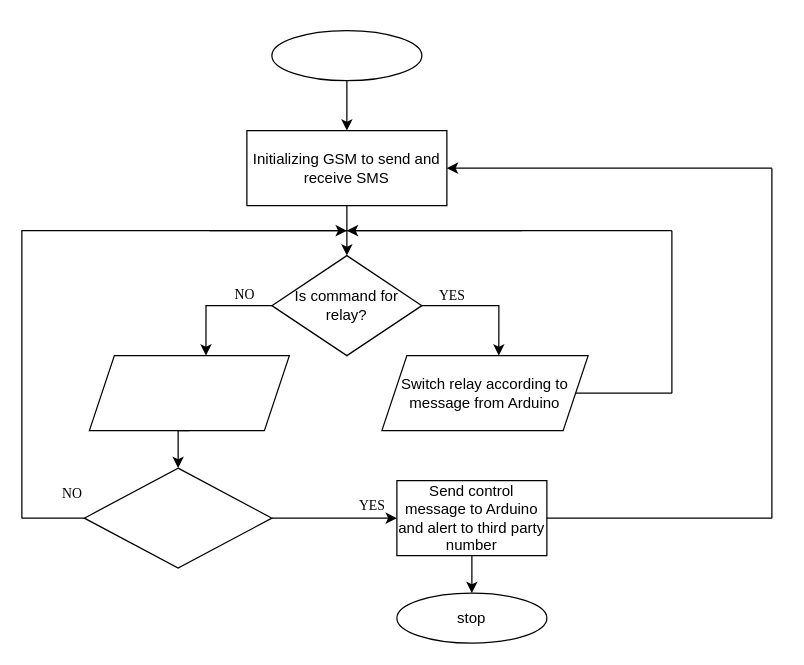
The diagram is 804 pixels wide and 665 high, and some of its shapes have lost their labels. Each missing label, with the box of its shape:
check for any sensor abnormalities: (83, 467, 272, 568)
Read data from sensor: (88, 354, 289, 431)
start: (271, 29, 422, 81)
